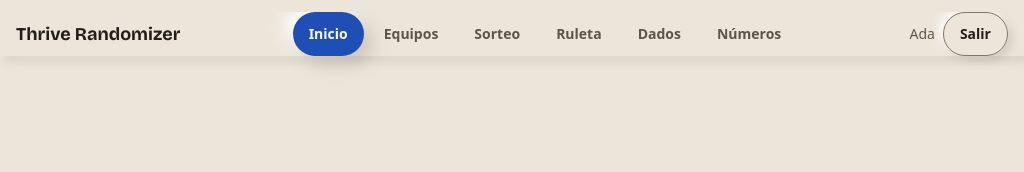
it: Header › cierra sesión al pulsar Salir y vuelve al estado anónimo
The width and height of the screenshot is (1024, 172).
Click the button "Salir" at (975, 34), box [943,12,1008,56]
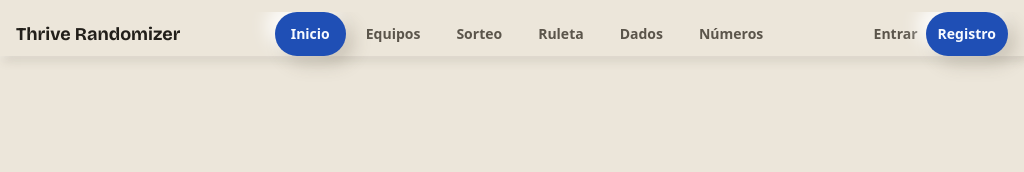
Result: the link "Entrar" is shown at [874,24,918,43]
Result: the button "Salir" is gone
